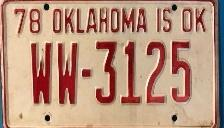1: (119, 39, 144, 105)
2: (143, 40, 170, 104)
3: (93, 39, 120, 106)
5: (169, 39, 193, 104)
W: (55, 42, 82, 106), (29, 41, 55, 107)
